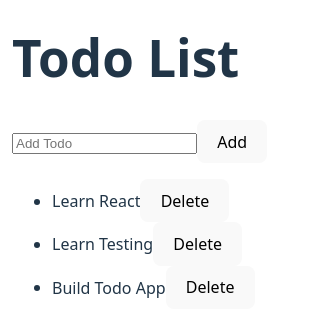
Test case: TodoList Component › adds a new todo
The image size is (332, 336).
// Simulate user input and form submission
In the field with test id "add-todo-input": x=104, y=143 [12, 133, 197, 154], type "New Todo"
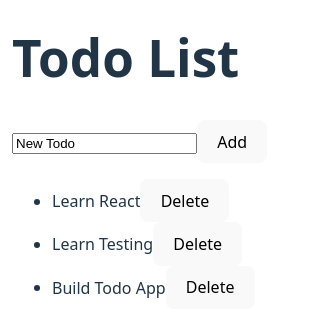
Click the button with test id "add-todo-button": x=232, y=142 [197, 120, 267, 163]
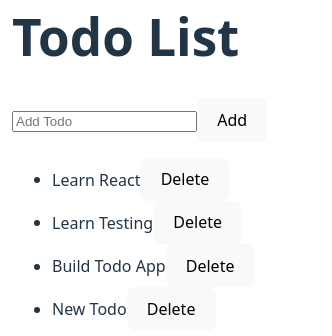
Result: the text "New Todo" is shown at [52, 298, 127, 320]
